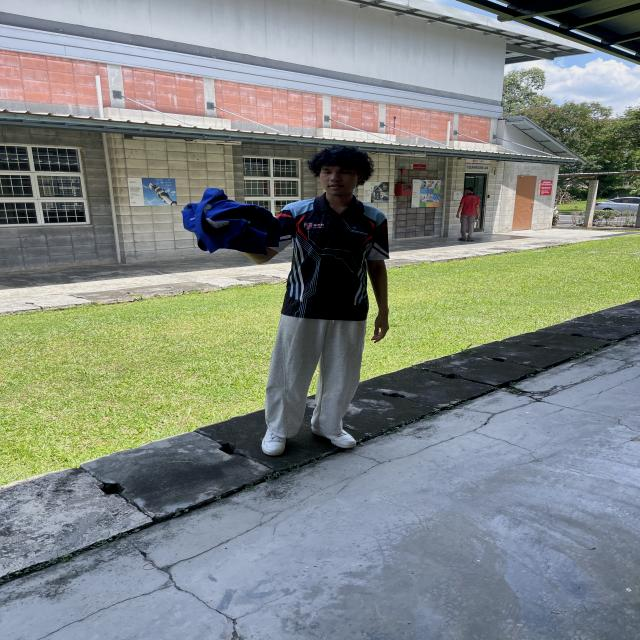person_without_labcoat: (182, 146, 389, 456)
